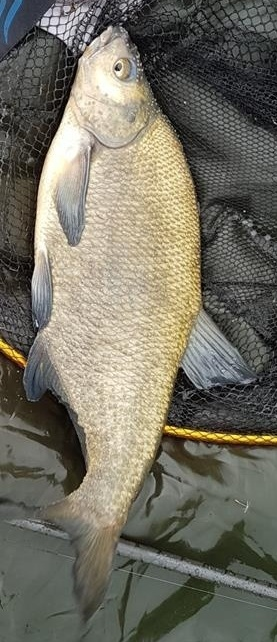Abramis brama: (20, 20, 257, 622)
